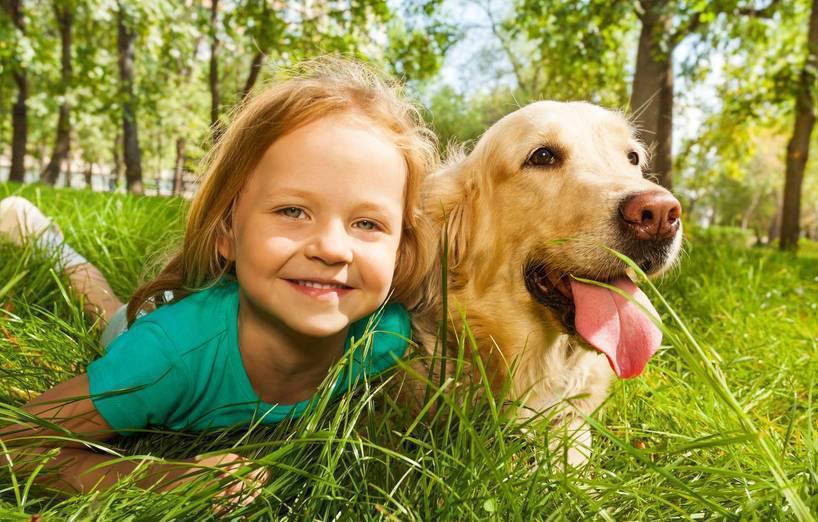child: (8, 64, 444, 490)
